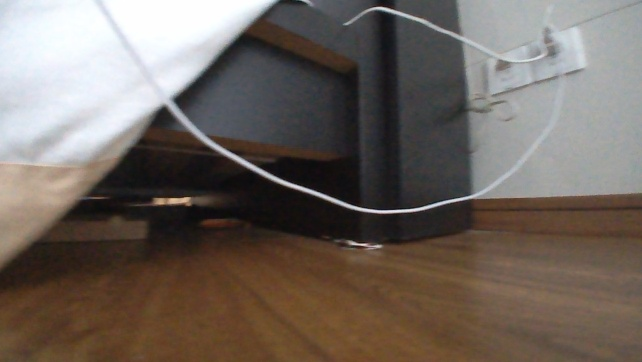wire: (162, 0, 550, 219)
